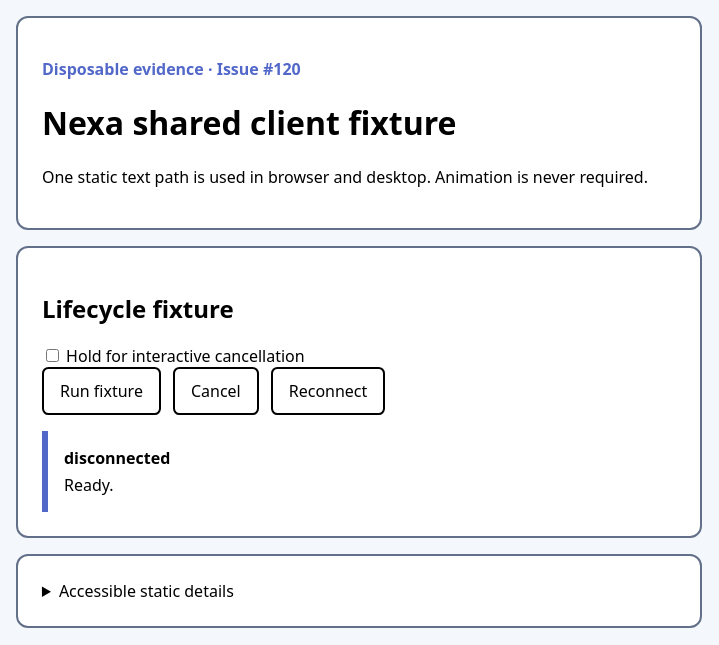
Scenario: reports disconnect and reconnect
Expected: the message shows "disconnected", [64,447,170,469]
Click the button "Reconnect" at (328, 391), box [271,367,385,415]
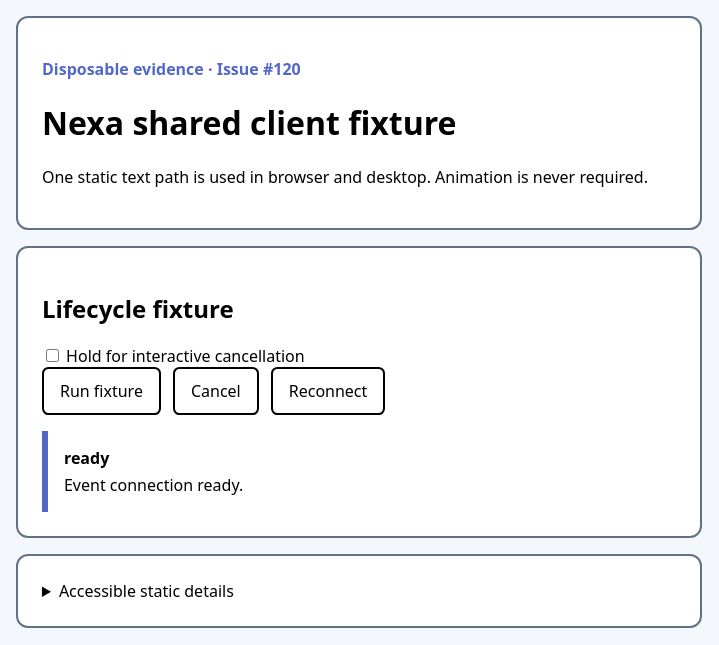
Result: the message shows "Event connection ready." at [64,474,243,496]
